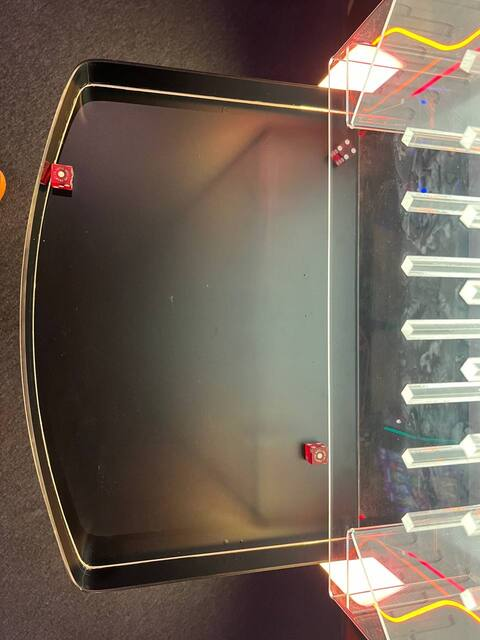four: (331, 135, 360, 165)
one: (47, 161, 74, 189), (307, 445, 331, 469)
